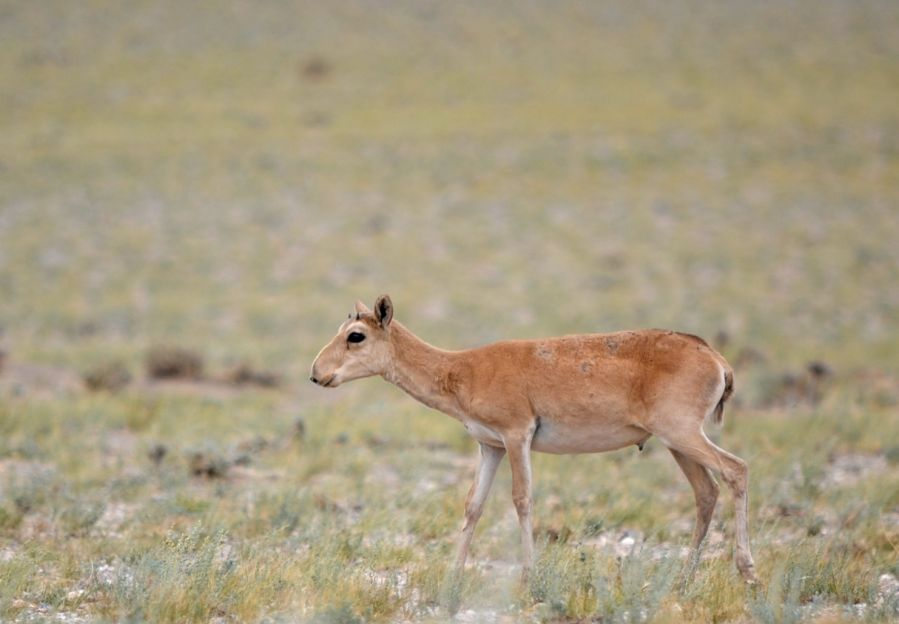saiga: (308, 292, 765, 605)
